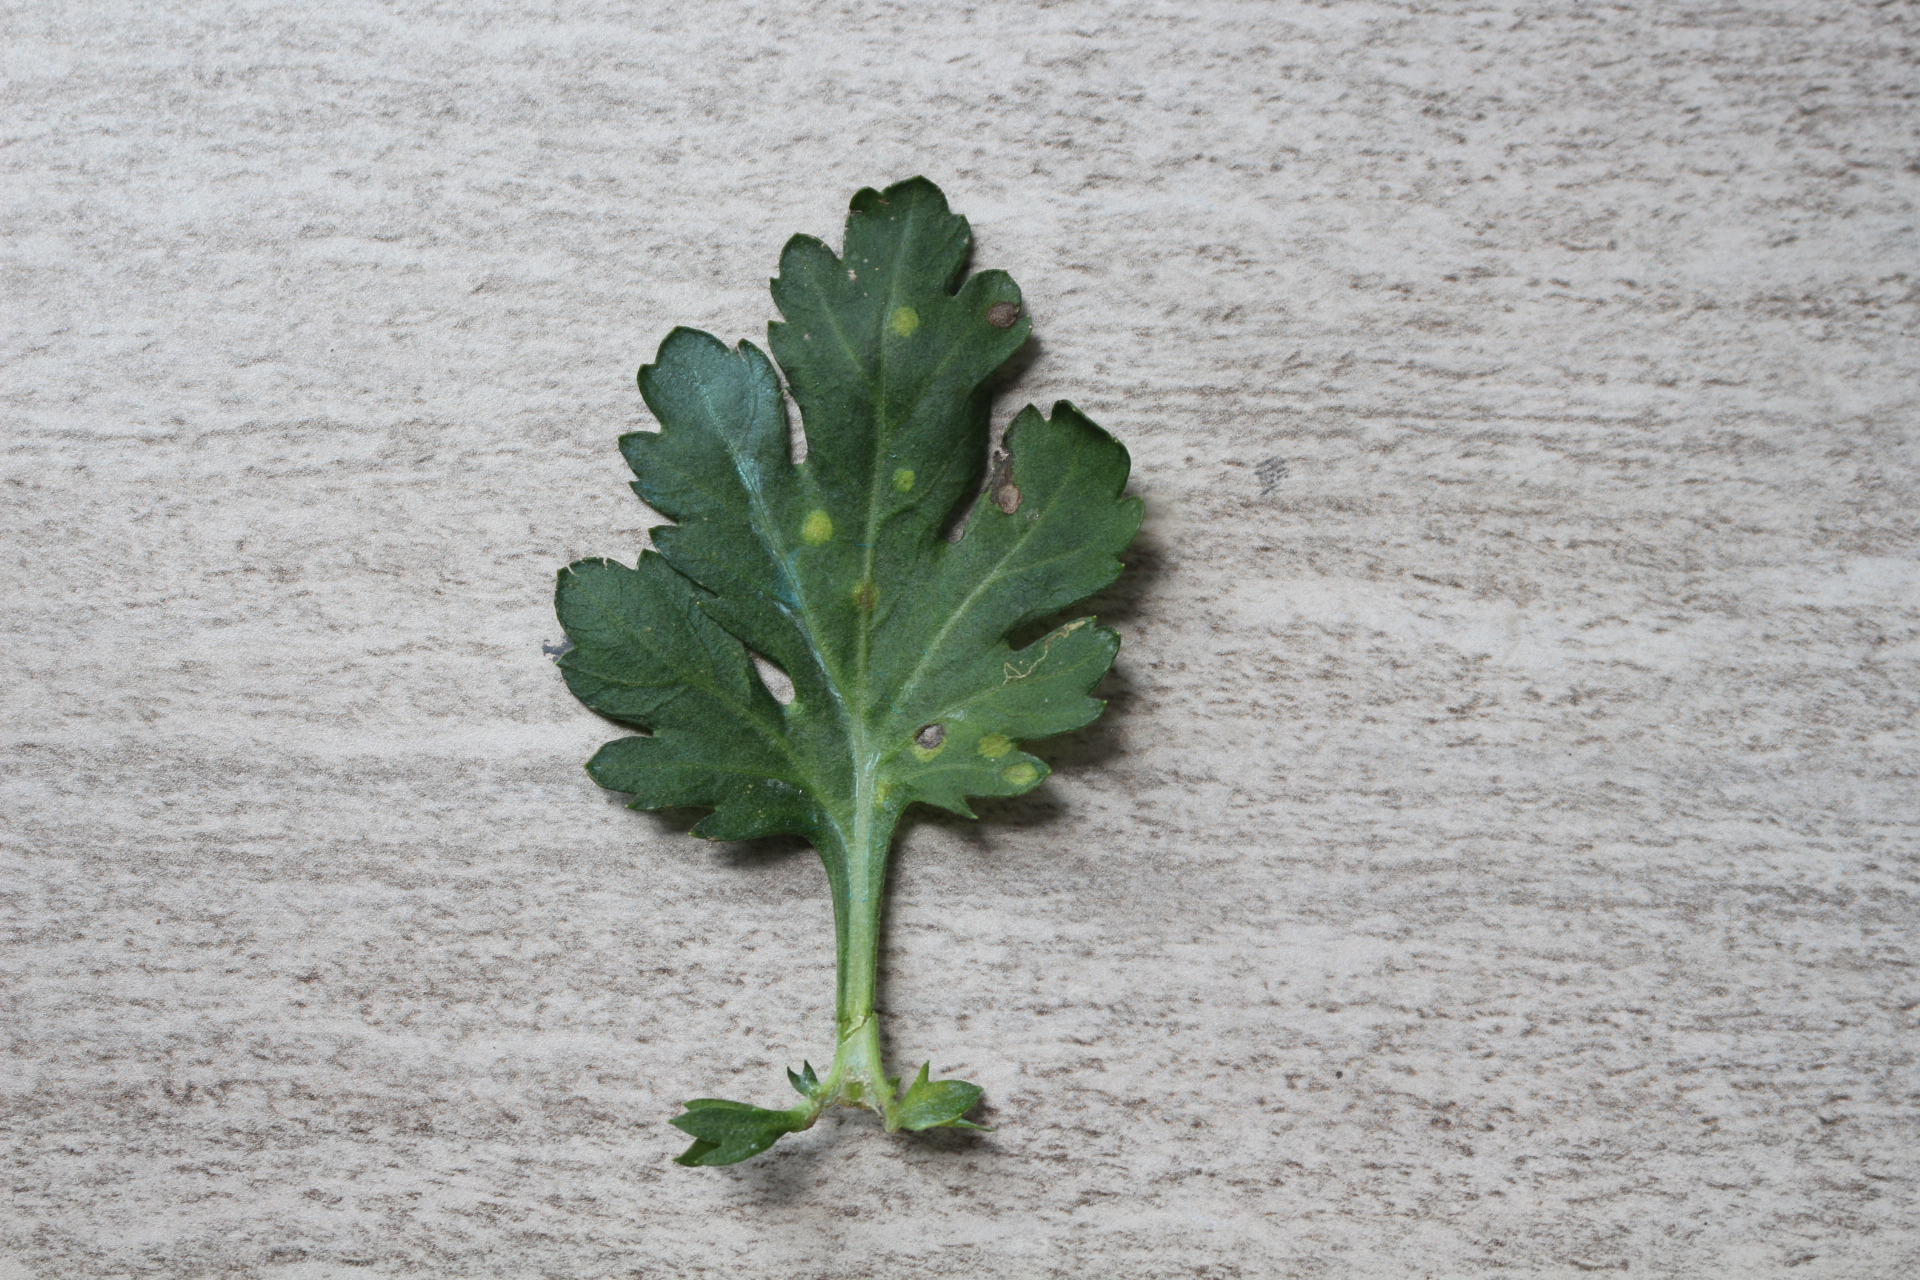namden: (984, 294, 1024, 336), (991, 481, 1030, 519), (914, 721, 947, 749)
namsung: (797, 510, 841, 549), (887, 301, 926, 341), (997, 756, 1039, 787), (974, 731, 1011, 761), (889, 461, 920, 496)
